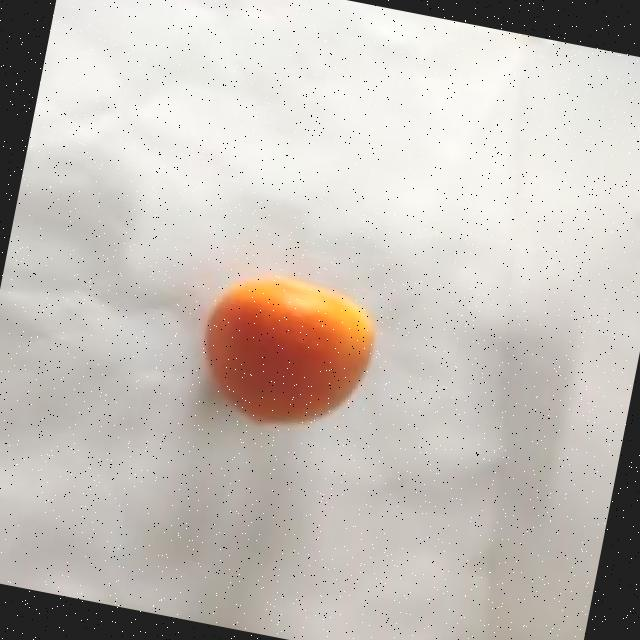Ripe: (186, 256, 393, 447)
